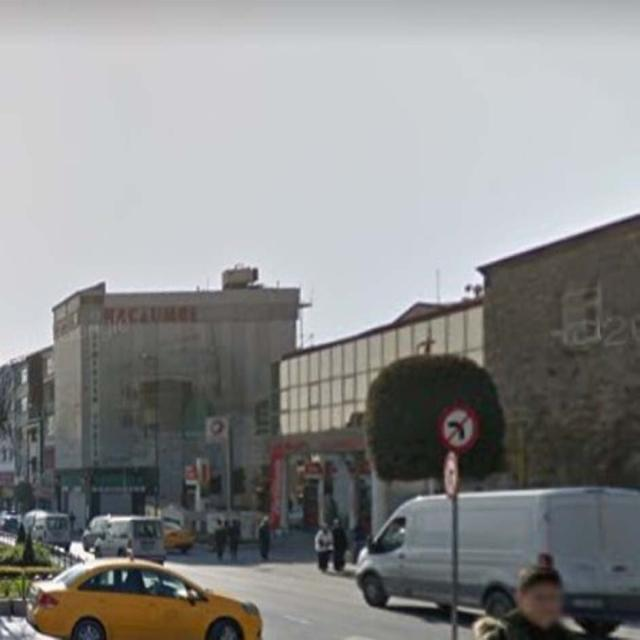soladonulmez: (436, 400, 481, 452)
